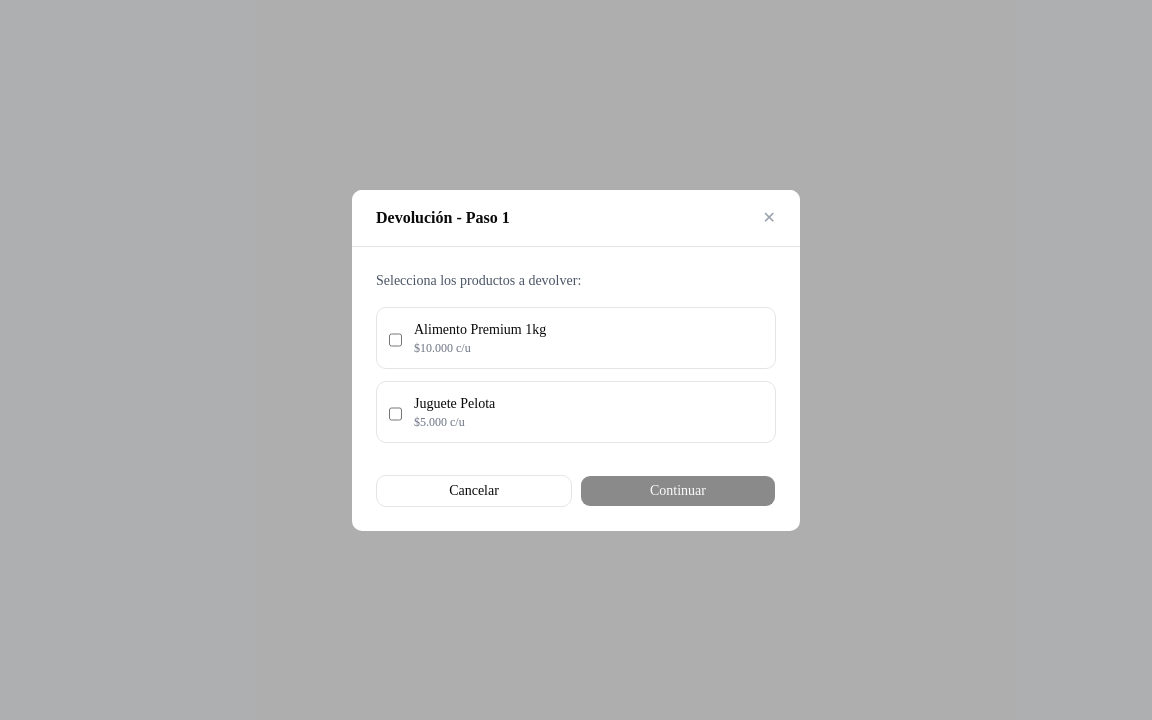
DevolucionModal — Paso 1: selección de ítems › DV-04: segundo click en checkbox deselecciona el ítem y deshabilita Continuar
The width and height of the screenshot is (1152, 720).
Step 1. Click the checkbox next to "Alimento Premium 1kg" → (396, 340), box left=389, top=324, right=402, bottom=356
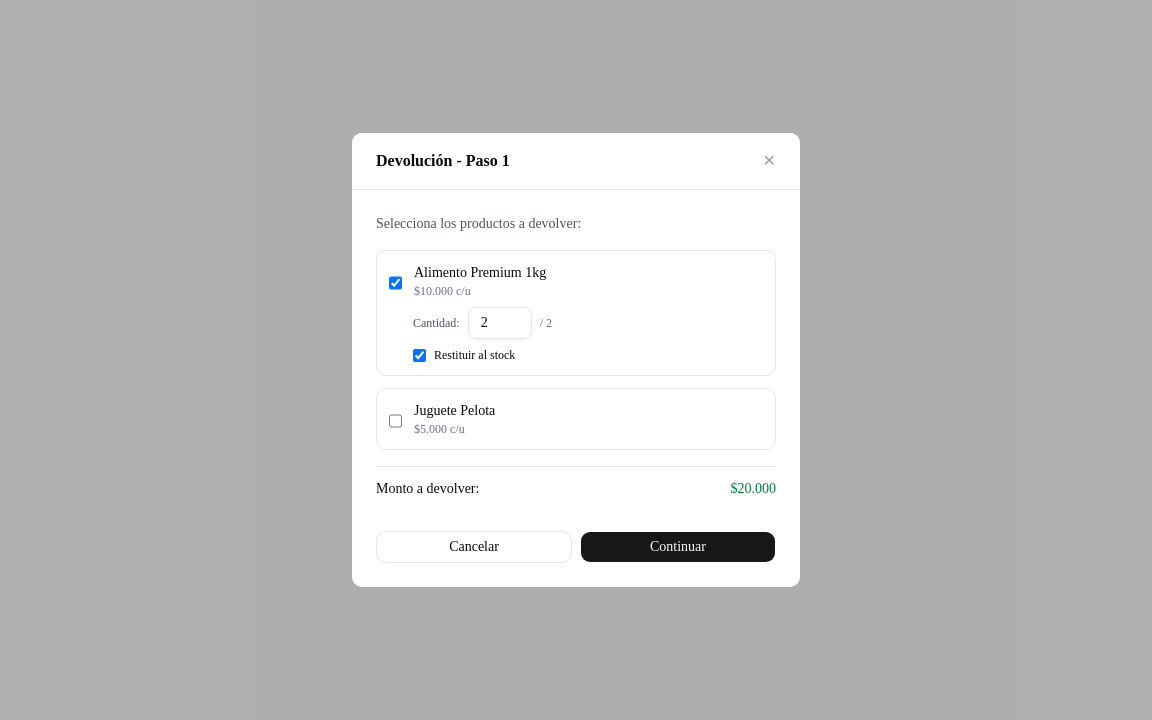
Expected: the checkbox next to "Alimento Premium 1kg" is checked
Expected: the button "Continuar" is enabled, left=580, top=531, right=776, bottom=563
Step 2. Click the checkbox next to "Alimento Premium 1kg" → (396, 283), box left=389, top=267, right=402, bottom=299
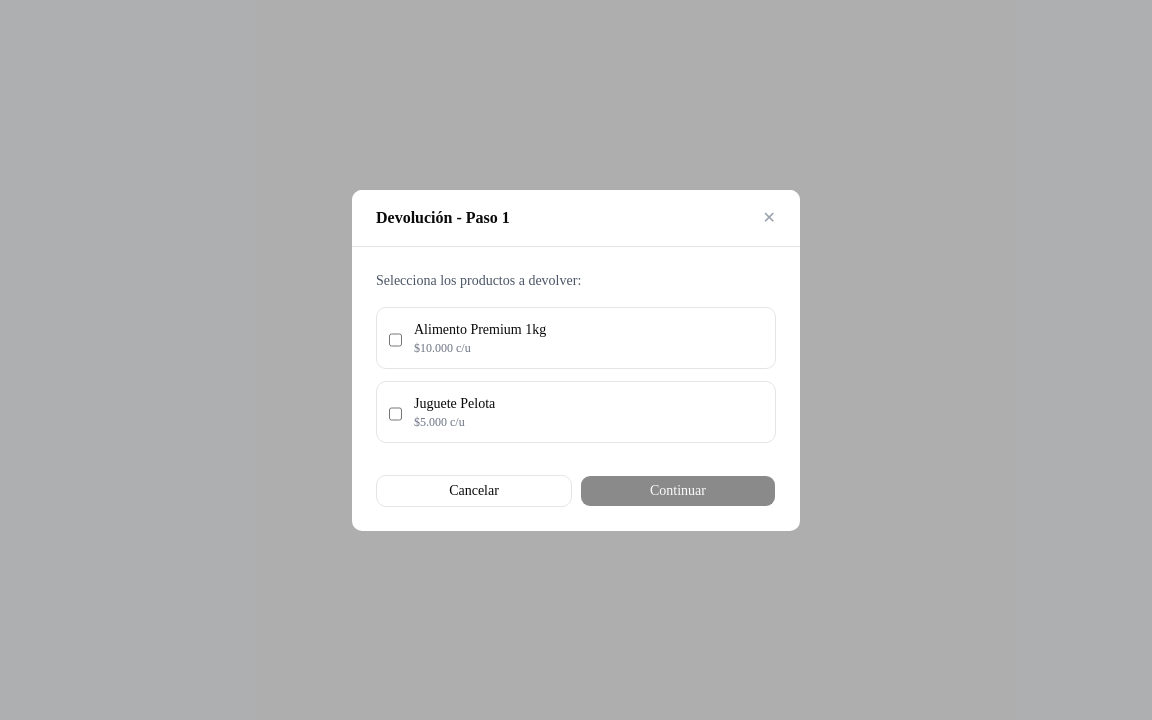
Expected: the checkbox next to "Alimento Premium 1kg" is not checked, left=389, top=324, right=402, bottom=356
Expected: the button "Continuar" is disabled, left=580, top=474, right=776, bottom=506
